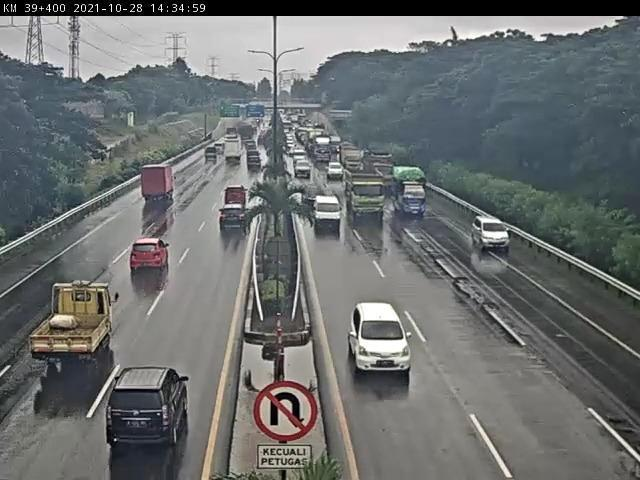car: (106, 363, 190, 453), (350, 303, 417, 380), (469, 212, 513, 259), (130, 235, 177, 279), (316, 197, 347, 238), (217, 203, 245, 241), (220, 185, 252, 211), (329, 162, 346, 186), (296, 162, 314, 180), (303, 186, 320, 205)
truck: (30, 280, 117, 375), (137, 160, 187, 215), (349, 175, 390, 231), (392, 168, 430, 226)
